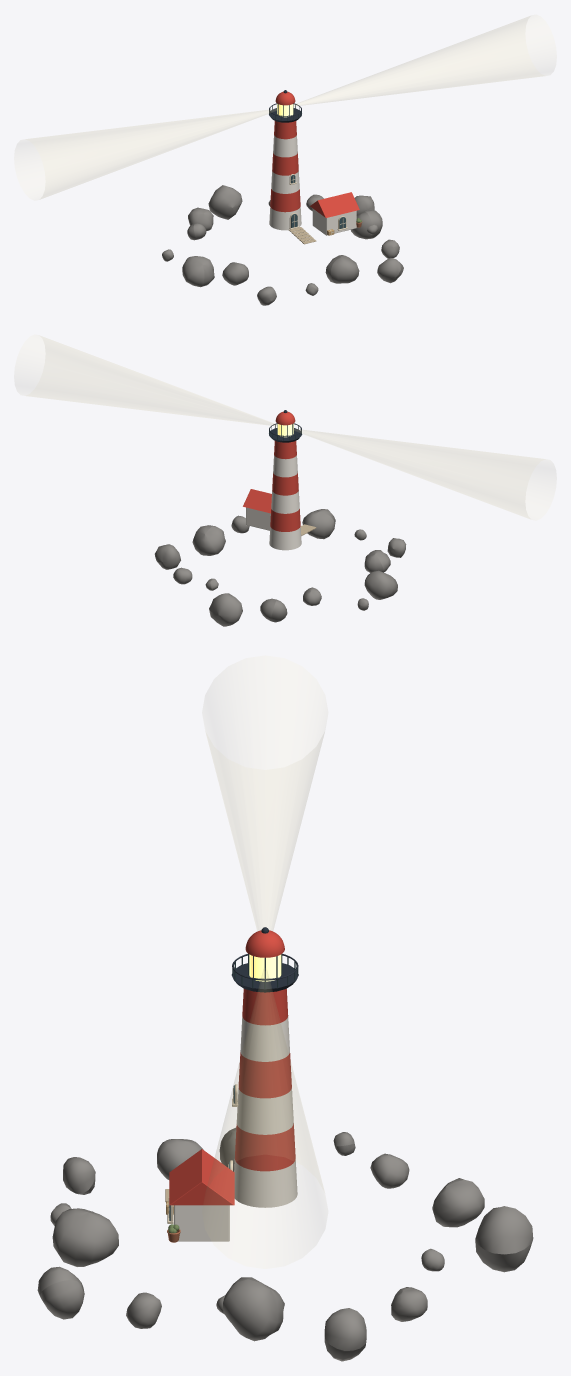
Rendered from lighthouse.glb.
3 views of the same model, one above another, from view 1: azimuth 30°, elevation 25°; view 2: azimuth 150°, elevation 25°; view 3: azimuth 270°, elevation 25° (orthographic). The views are drawn at different scales.
Visible parts, largest first — view 1: part_0_11, part_0, part_0_12, part_0_29; view 2: part_0_11, part_0, part_0_12; view 3: part_0, part_0_11, part_0_12, part_0_29.
Boxes of the visible parts, bbox=[...] form: part_0_11: bbox=[26, 16, 544, 198]; part_0: bbox=[162, 90, 403, 305]; part_0_12: bbox=[310, 192, 359, 235]; part_0_29: bbox=[269, 104, 362, 244]; part_0_11: bbox=[26, 336, 544, 518]; part_0: bbox=[154, 410, 406, 626]; part_0_12: bbox=[243, 489, 271, 530]; part_0: bbox=[37, 927, 533, 1361]; part_0_11: bbox=[206, 733, 323, 1190]; part_0_12: bbox=[169, 1149, 234, 1241]; part_0_29: bbox=[165, 954, 298, 1242].
Size of the model in its own units: 84 by 28.86 by 35.25.
